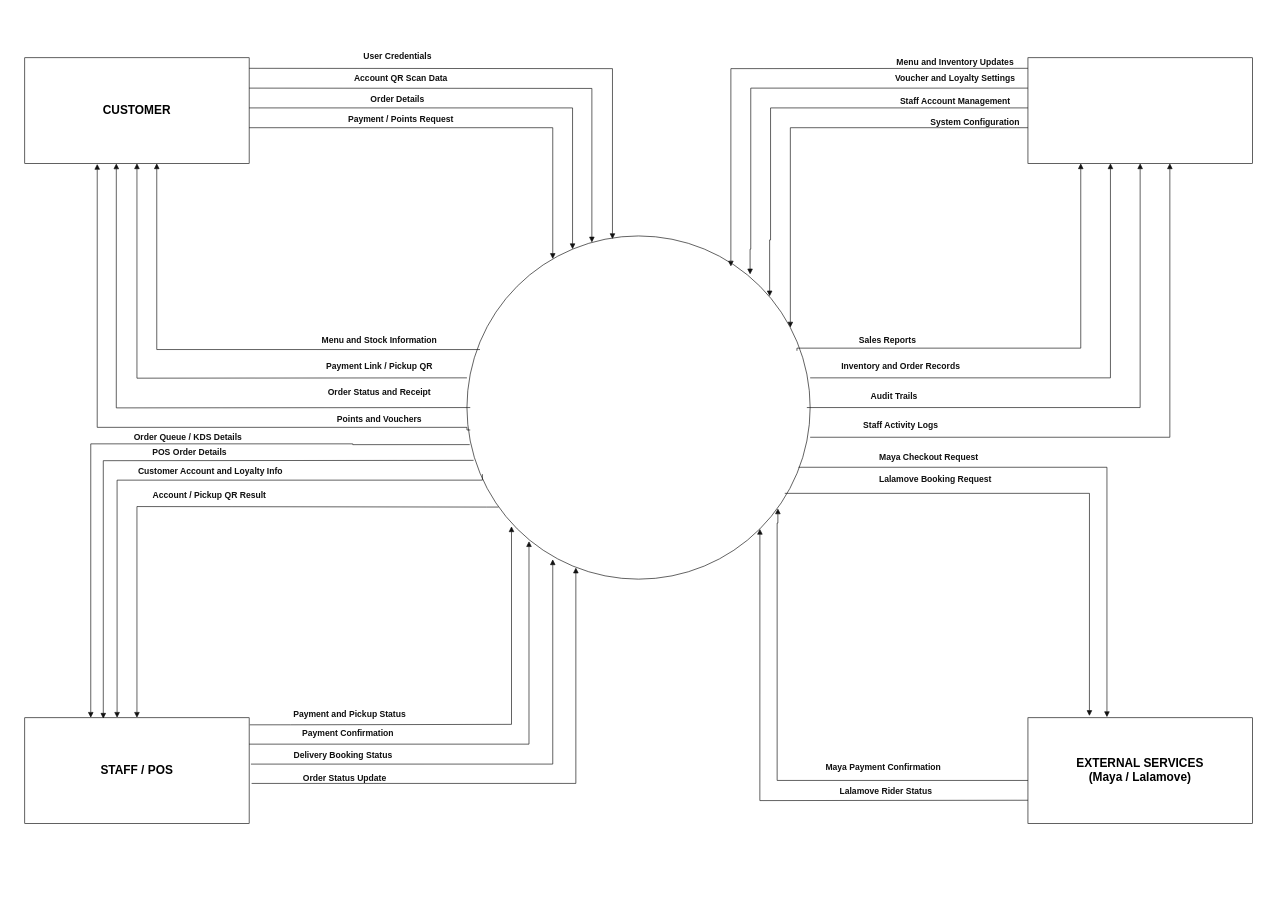
Image size: 1276x913. Some labels were removed from this diagram. The centre of each missing label's shape, as x and y in pixels:
0 CafeOS Ordering and Operations System: point (638, 407)
ADMIN: point (1139, 110)
